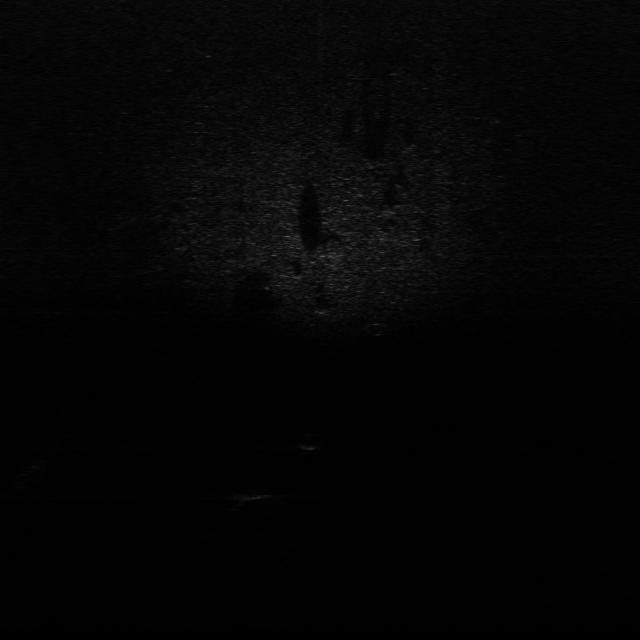ball: (293, 428, 326, 452)
square cage: (230, 483, 280, 504)
tyre: (358, 316, 397, 340)
